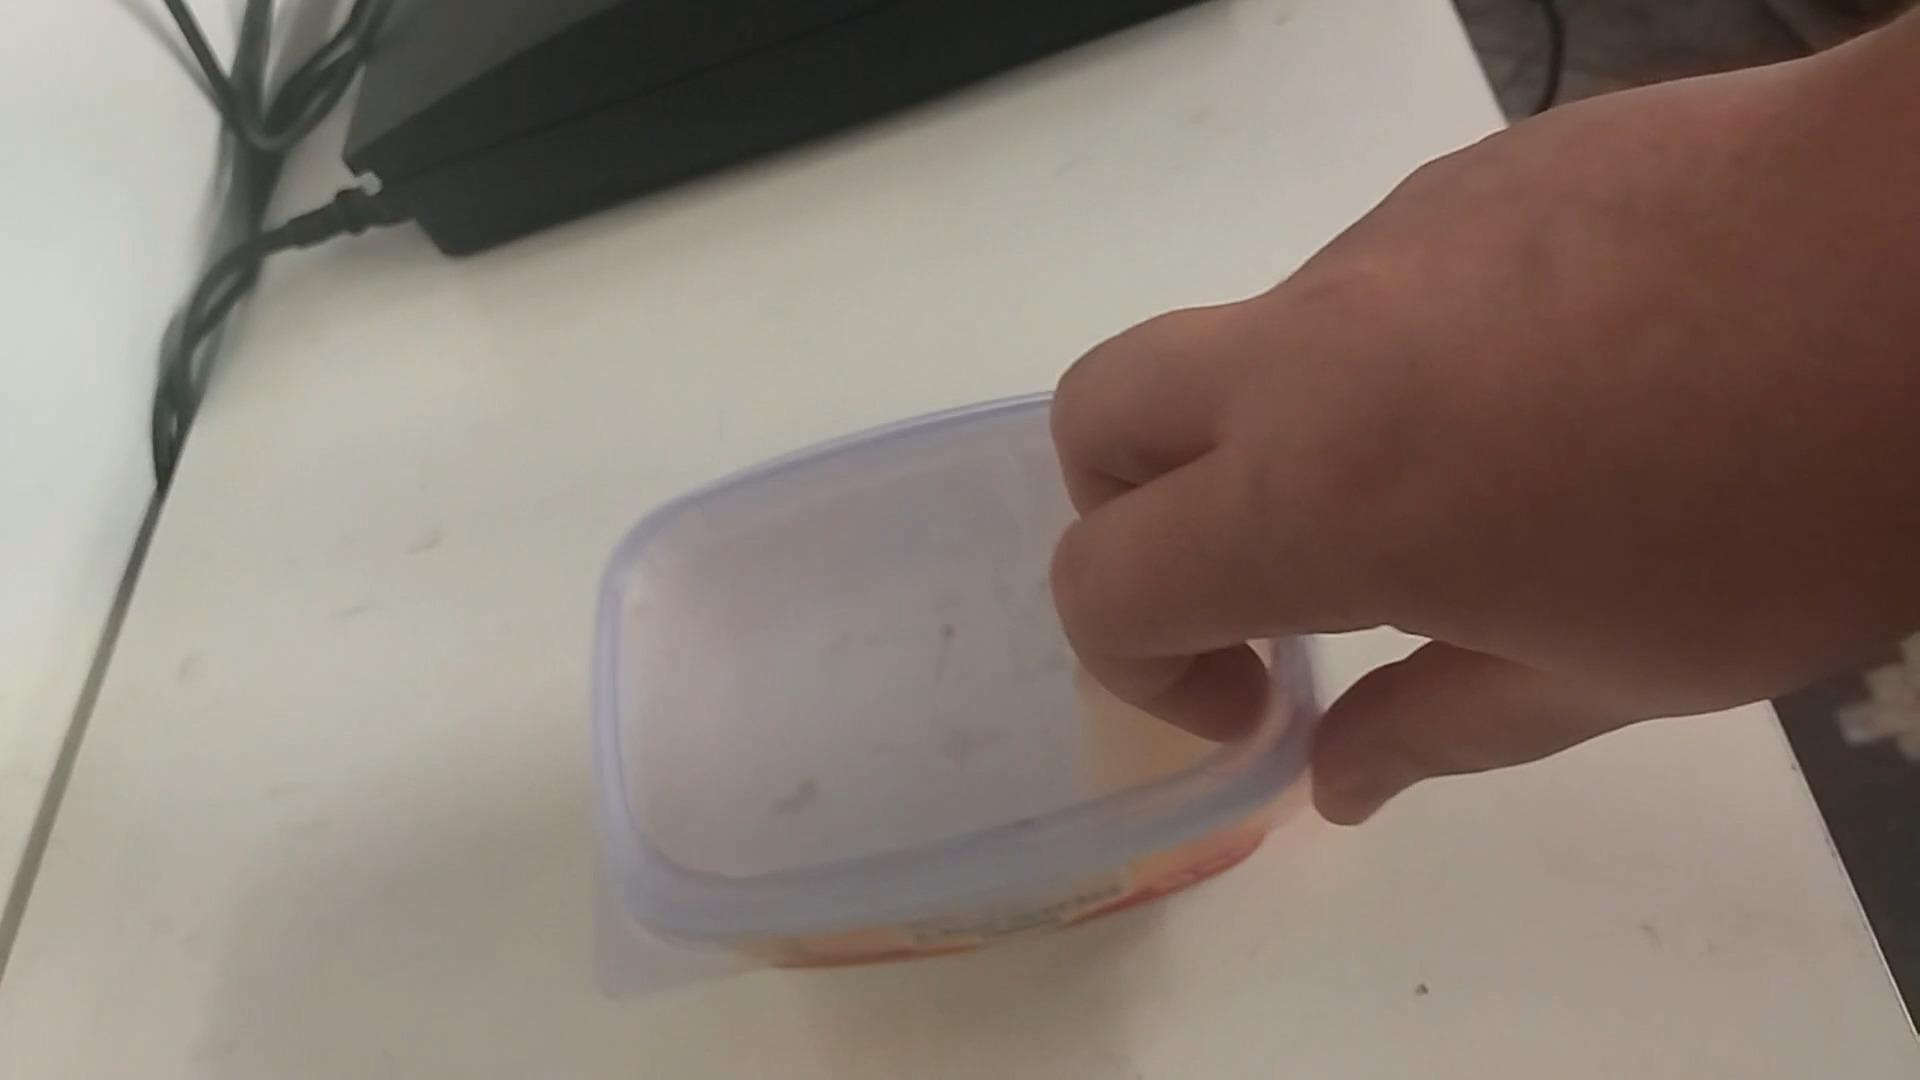butter: (585, 400, 1320, 973)
